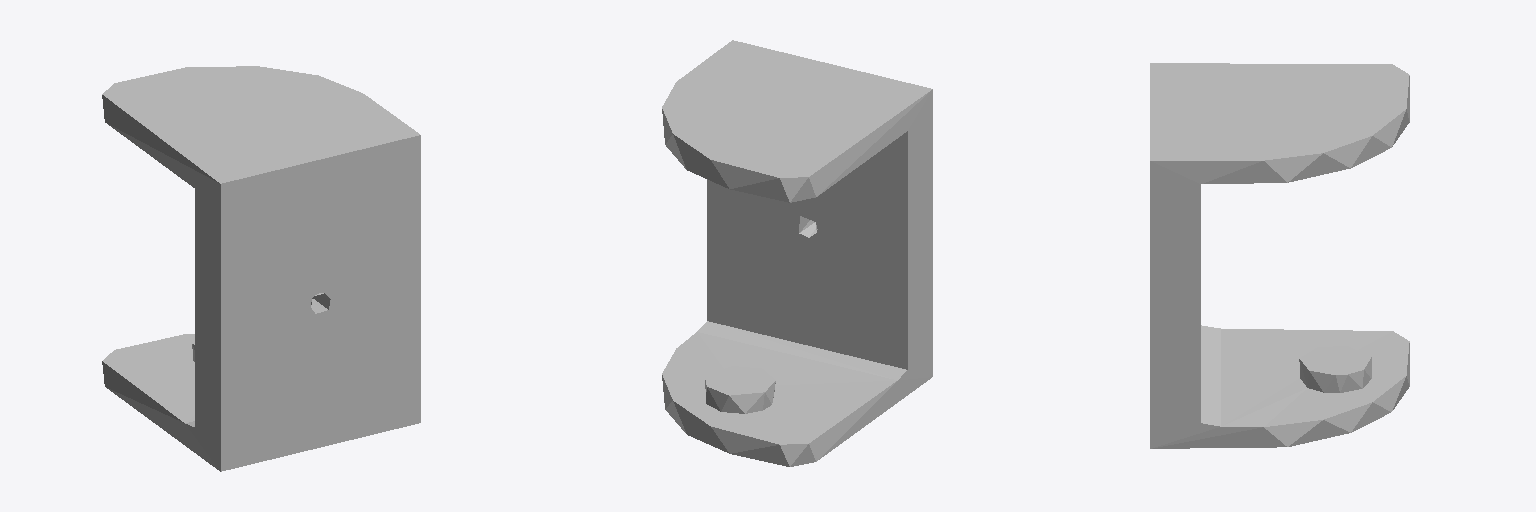
The model's file is 4_finger.obj.
The picture shows the model from 3 angles: view 1: azimuth 30°, elevation 25°; view 2: azimuth 150°, elevation 25°; view 3: azimuth 270°, elevation 25°; orthographic projection.
Parts seen in each view (by area): view 1: 4_0finger; view 2: 4_0finger; view 3: 4_0finger.
Part boxes in pixels (x1,y1,x2,y2): 4_0finger: (102,66,420,471); 4_0finger: (662,40,932,466); 4_0finger: (1150,63,1409,448).
Size of the model in its own units: 0.0196 by 0.0269 by 0.0219.